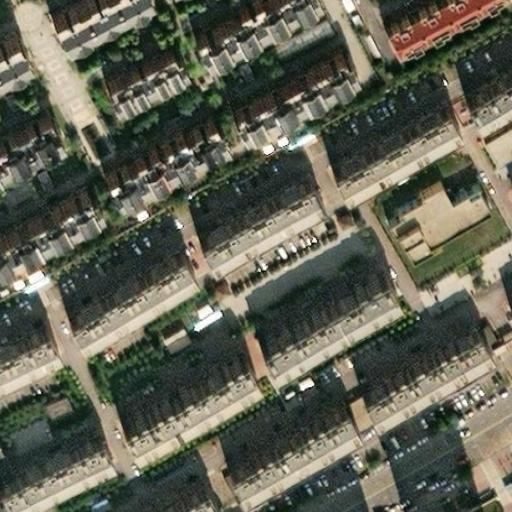building: (246, 260, 388, 364), (106, 346, 244, 441), (56, 236, 186, 336), (212, 391, 345, 486), (348, 315, 478, 404), (90, 102, 219, 190), (224, 31, 350, 117), (189, 165, 310, 254), (323, 96, 444, 178), (373, 165, 481, 239), (0, 420, 98, 498), (0, 179, 92, 257), (95, 28, 183, 93), (120, 467, 213, 512), (370, 0, 463, 40), (0, 99, 51, 153), (0, 314, 48, 364), (40, 384, 76, 414), (158, 315, 192, 346), (0, 20, 20, 59)
